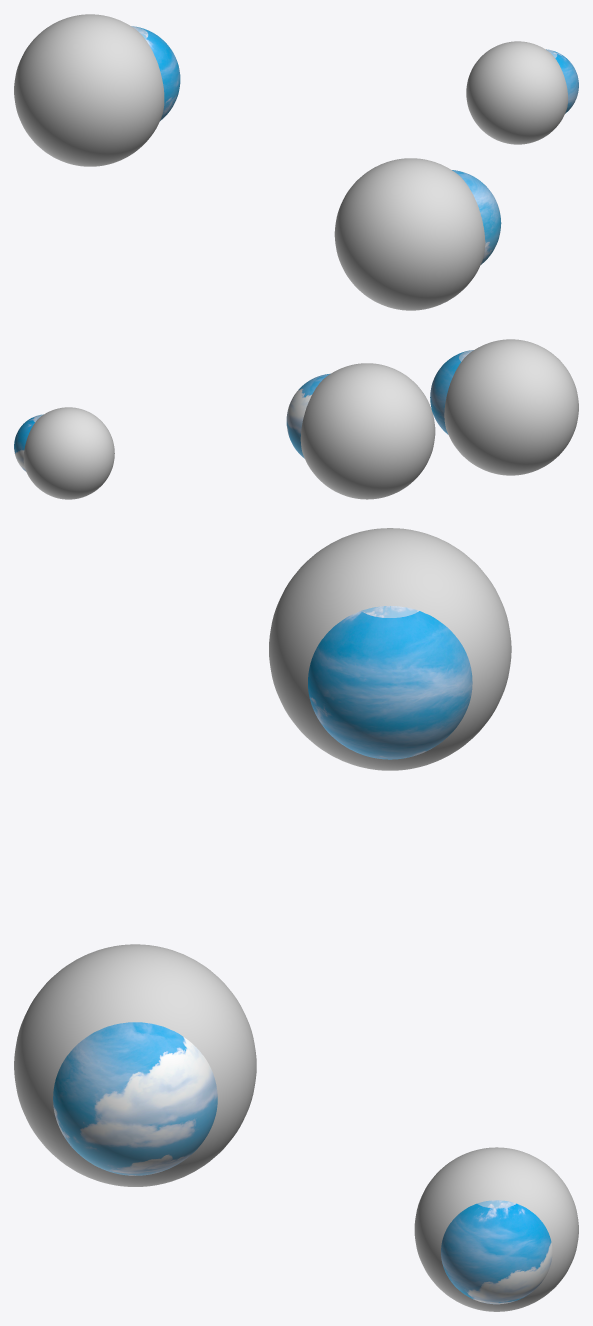
File: CloudyEyes3.gltf
The picture shows the model from 3 angles, top to bottom: view 1: azimuth 30°, elevation 25°; view 2: azimuth 150°, elevation 25°; view 3: azimuth 270°, elevation 25°; orthographic projection. The views are drawn at different scales.
Parts seen in each view (by area): view 1: Sphere 8, Sphere, Sphere 9, Sphere 7, Sphere 2, Sphere 10; view 2: Sphere, Sphere 8, Sphere 9, Sphere 7, Sphere 2, Sphere 10; view 3: Sphere, Sphere 8, Sphere 2, Sphere 7, Sphere 9, Sphere 10.
Part boxes in pixels (x1,y1,x2,y2): Sphere 8: (14, 14, 164, 166); Sphere: (334, 158, 485, 310); Sphere 9: (466, 41, 567, 144); Sphere 7: (131, 26, 180, 120); Sphere 2: (452, 170, 501, 264); Sphere 10: (546, 49, 578, 113); Sphere: (300, 363, 435, 499); Sphere 8: (444, 339, 578, 475); Sphere 9: (23, 407, 114, 499); Sphere 7: (430, 350, 473, 434); Sphere 2: (286, 373, 330, 458); Sphere 10: (14, 414, 43, 471); Sphere: (14, 944, 256, 1186); Sphere 8: (269, 528, 511, 770); Sphere 2: (53, 1022, 217, 1175); Sphere 7: (308, 606, 472, 759); Sphere 9: (414, 1147, 578, 1311); Sphere 10: (441, 1200, 552, 1304).
Size of the model in its own units: 1.6 by 0.7374 by 0.8404.
4 materials, 3 textured.
